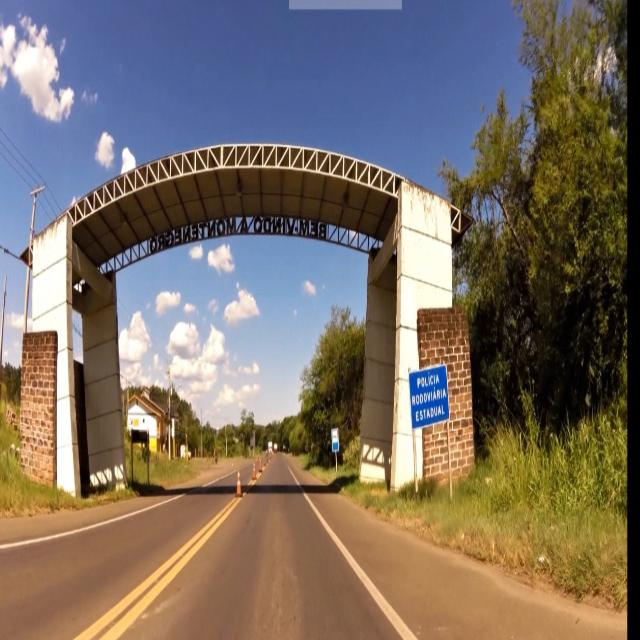LOC-6: (408, 370, 454, 427)
